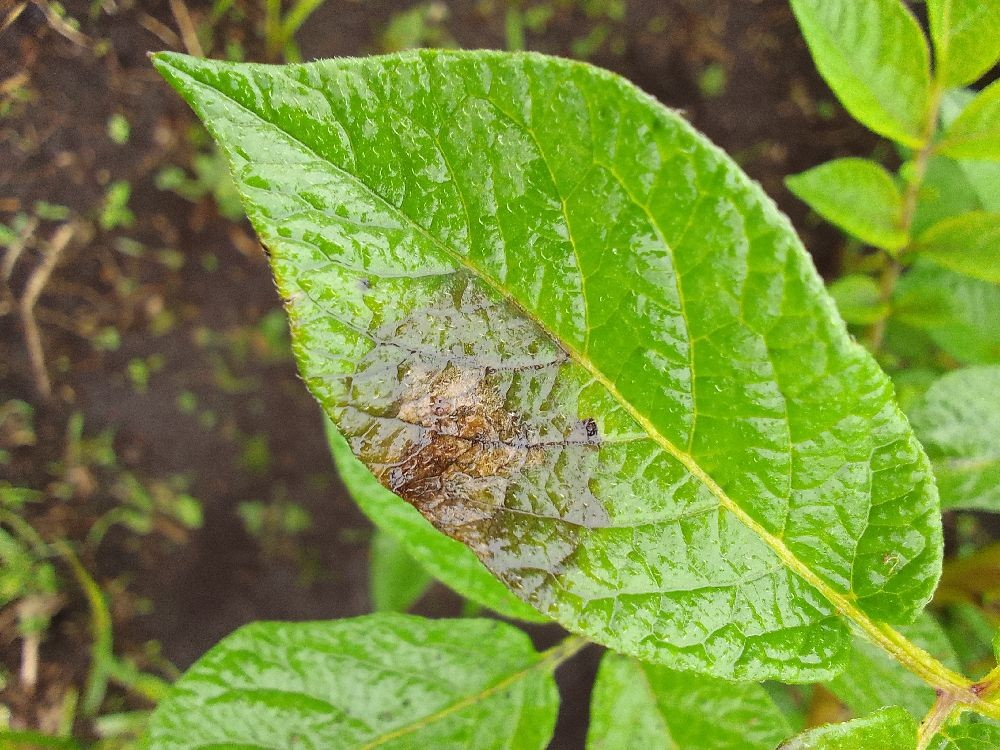late_blight: (332, 336, 597, 588), (910, 493, 1000, 656), (532, 628, 620, 750)
